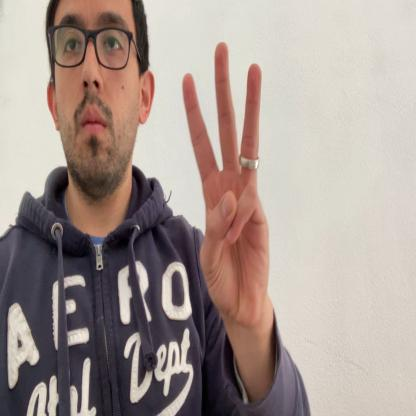W: (182, 39, 269, 327)
